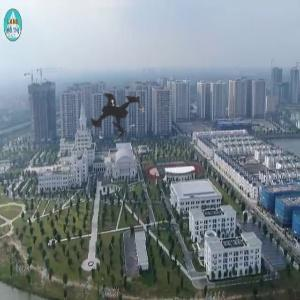drone: (43, 40, 196, 193)
